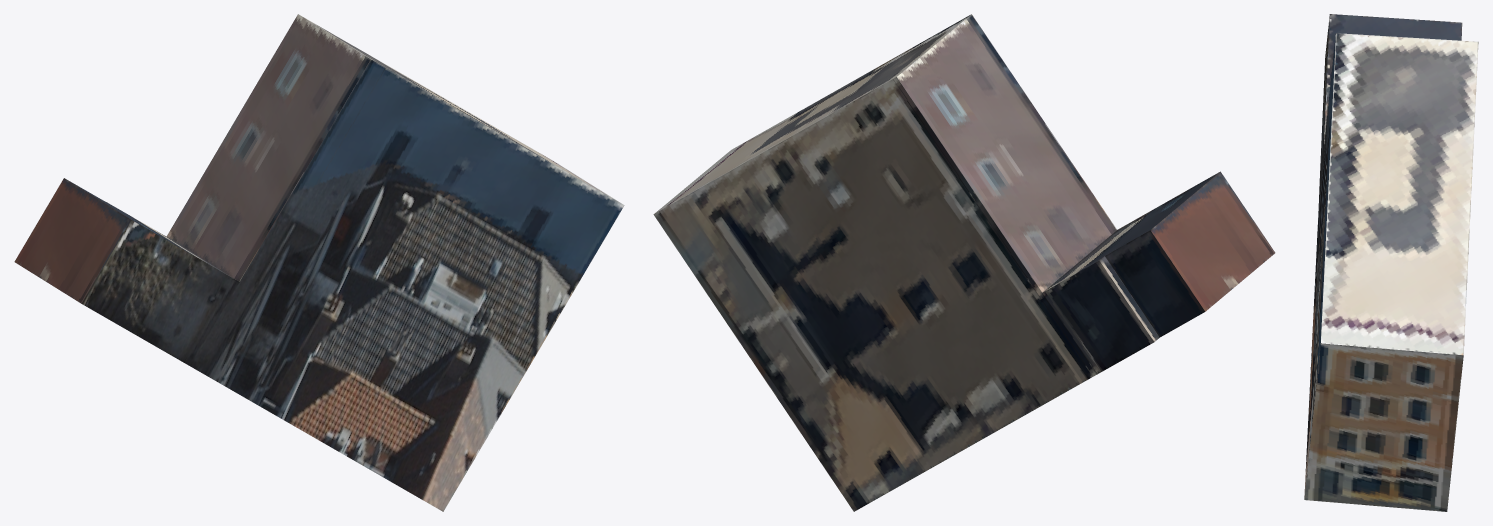
3 views of the same model, side by side, from view 1: azimuth 30°, elevation 25°; view 2: azimuth 150°, elevation 25°; view 3: azimuth 270°, elevation 25° (orthographic). The views are drawn at different scales.
Visible parts, largest first — view 1: BAG_0599100000671694 (×4); view 2: BAG_0599100000671694 (×5); view 3: BAG_0599100000671694 (×4).
Boxes of the visible parts, x1,y1,x2,y2 form: BAG_0599100000671694 (×4): (14, 14, 624, 511); BAG_0599100000671694 (×5): (653, 14, 1275, 511); BAG_0599100000671694 (×4): (1304, 14, 1478, 511).
Bounding box in the file's own units: 27.11 × 22.15 × 7.77.
6 materials, 6 textured.
